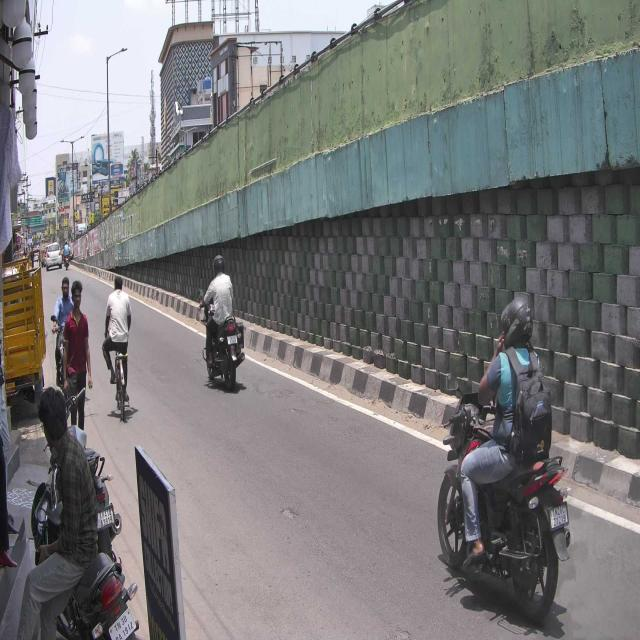single_rider: (438, 294, 572, 624), (198, 255, 246, 392)
